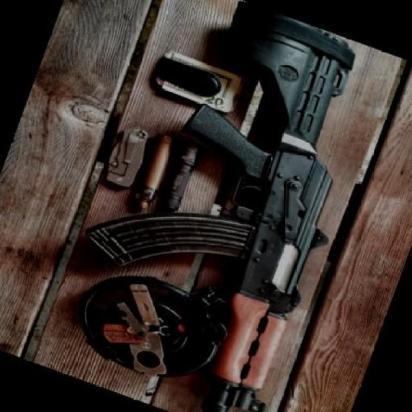Gun: (25, 0, 411, 412)
